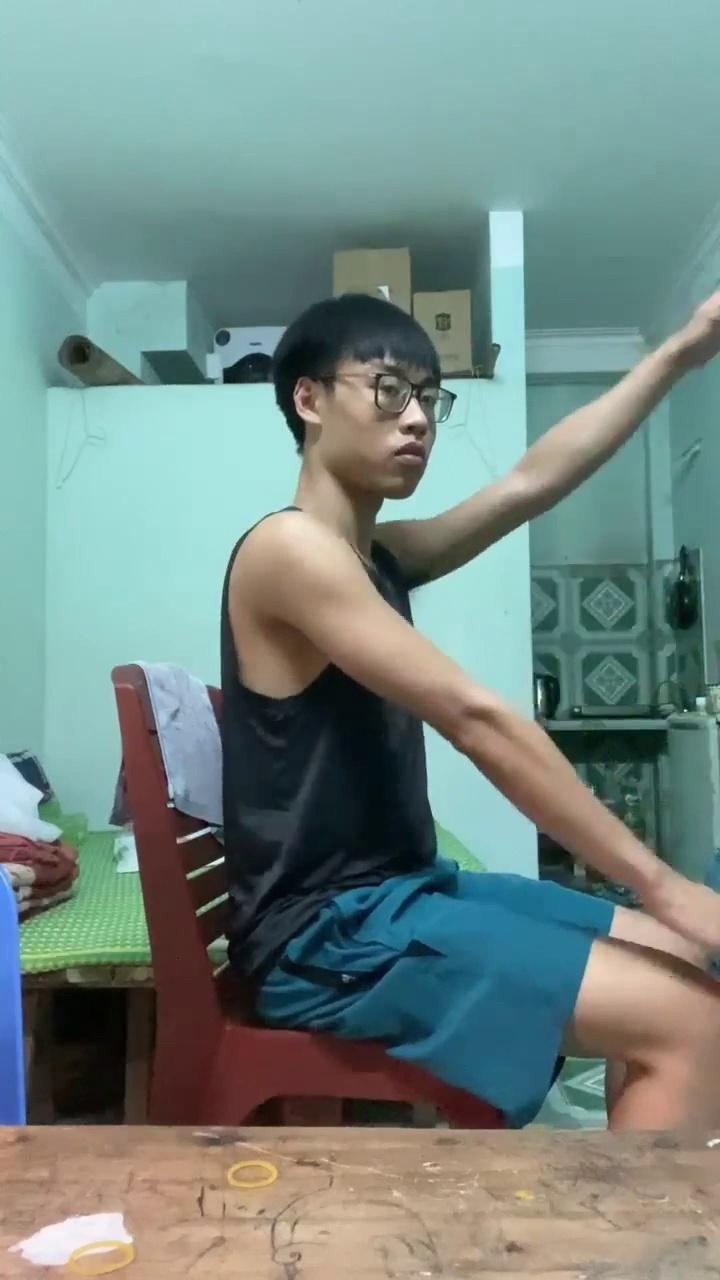GoodPosture: (200, 291, 719, 1130)
